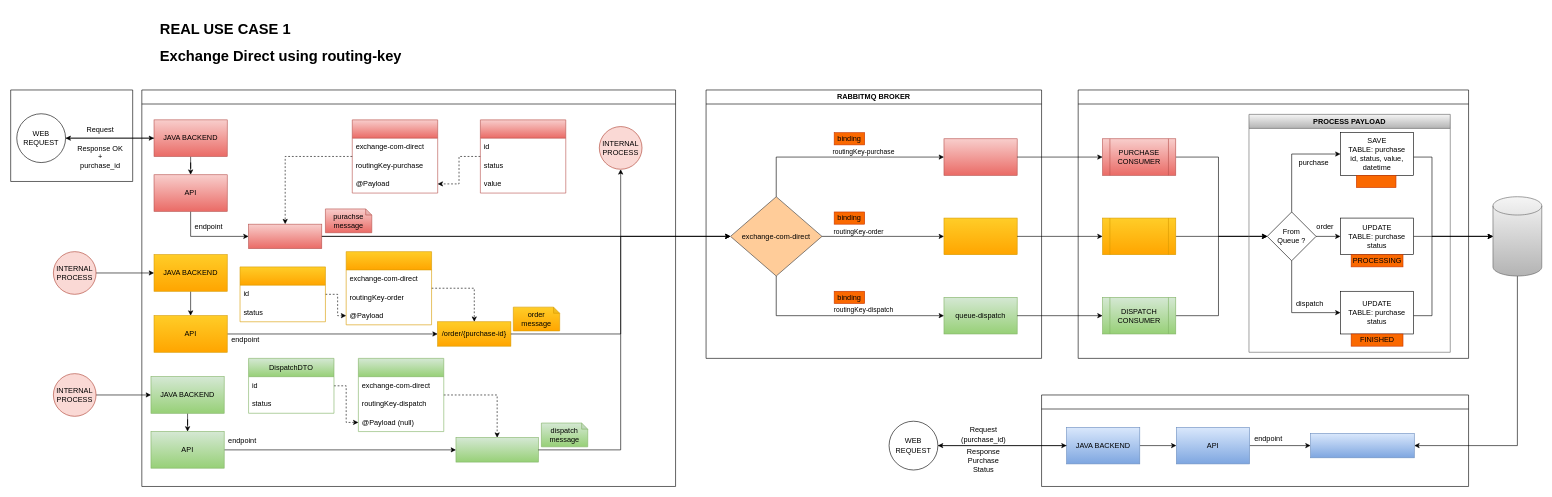
Some shapes in this 1552 by 497 pixel diagram are drawn without their labels. The shapes that lost their labels are listed below. From the top down, each one's box as (x1, y1, x2, y2) in pixels, then its label:
(10, 89, 133, 181): FRONTEND APP
(352, 119, 438, 193): Request (purchase)
(480, 119, 566, 193): PurchaseDTO
(943, 138, 1017, 175): queue-purchase
(1356, 175, 1396, 188): CREATED
(248, 224, 322, 249): /purchase
(943, 217, 1017, 255): queue-order
(1102, 217, 1176, 255): ORDER CONSUMER
(1078, 89, 1469, 358): APPLICATION CONSUMER
(1492, 196, 1542, 276): DATABASE
(239, 266, 325, 322): OrderDTO
(346, 251, 432, 325): Request (order)
(141, 89, 676, 486): APPLICATION PRODUCER
(358, 358, 444, 432): Request (dispatch)
(455, 437, 538, 462): /dispatch/{purchase-id}
(1041, 394, 1469, 486): APPLICATION STATUS
(1310, 433, 1414, 458): /purchase/status/{purchase-id}
